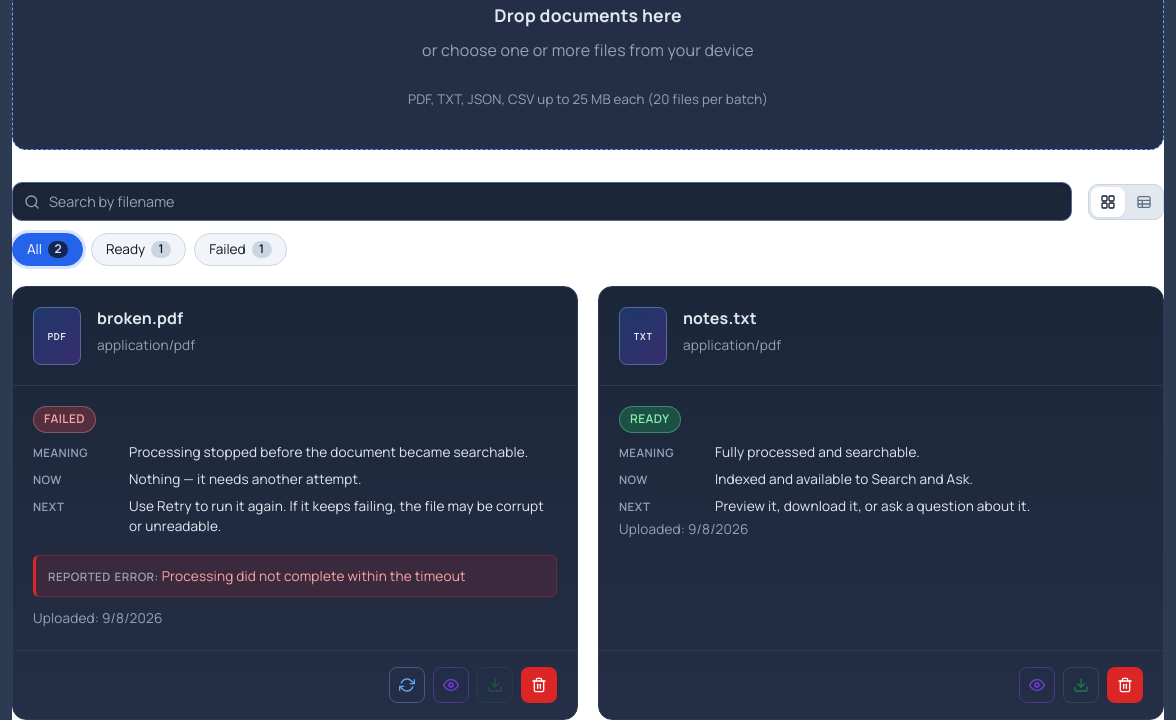
Test: DocumentsPage reprocess › rolls back to the failed state when reprocessing fails
(page scrolled)
Click the button named "Reprocess document": click(407, 685) [389, 667, 425, 703]
(page scrolled)
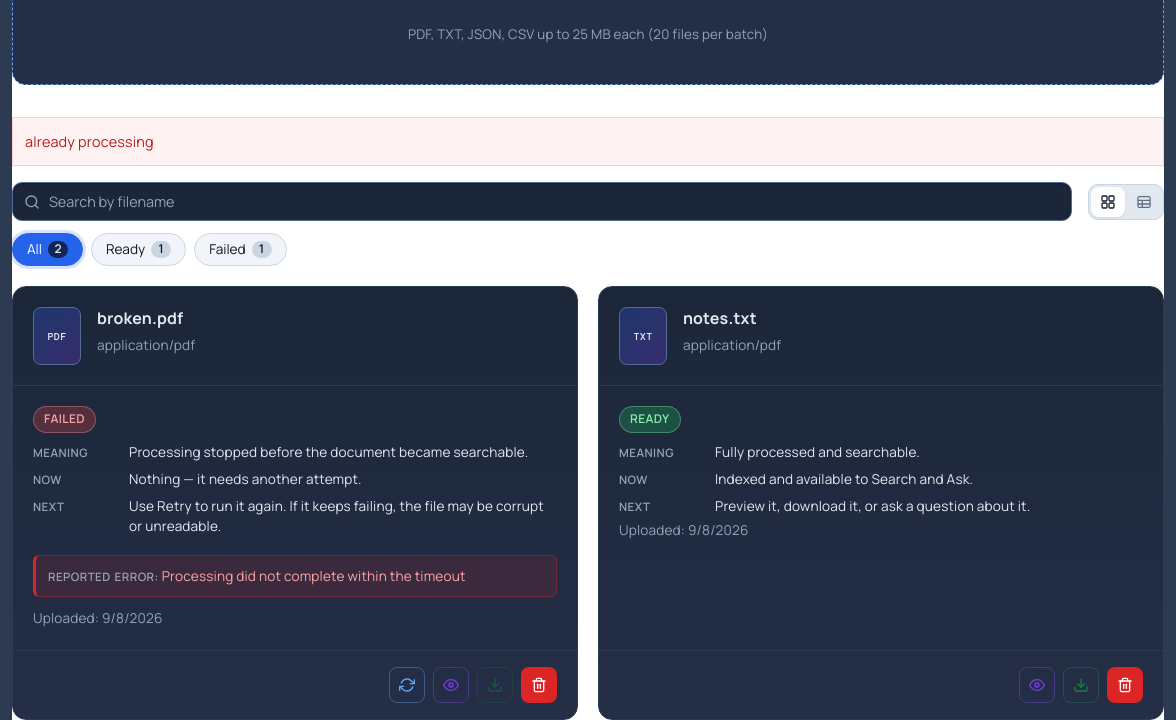
expect the element with class "error-detail" shows "did not complete": met, box [162, 567, 466, 585]
expect the message reads "already processing": met, box [25, 132, 154, 151]
